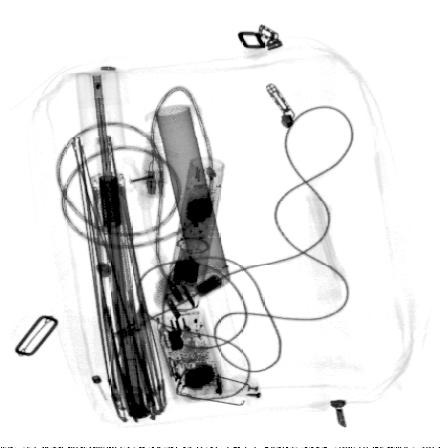Baton: (151, 153, 228, 405)
